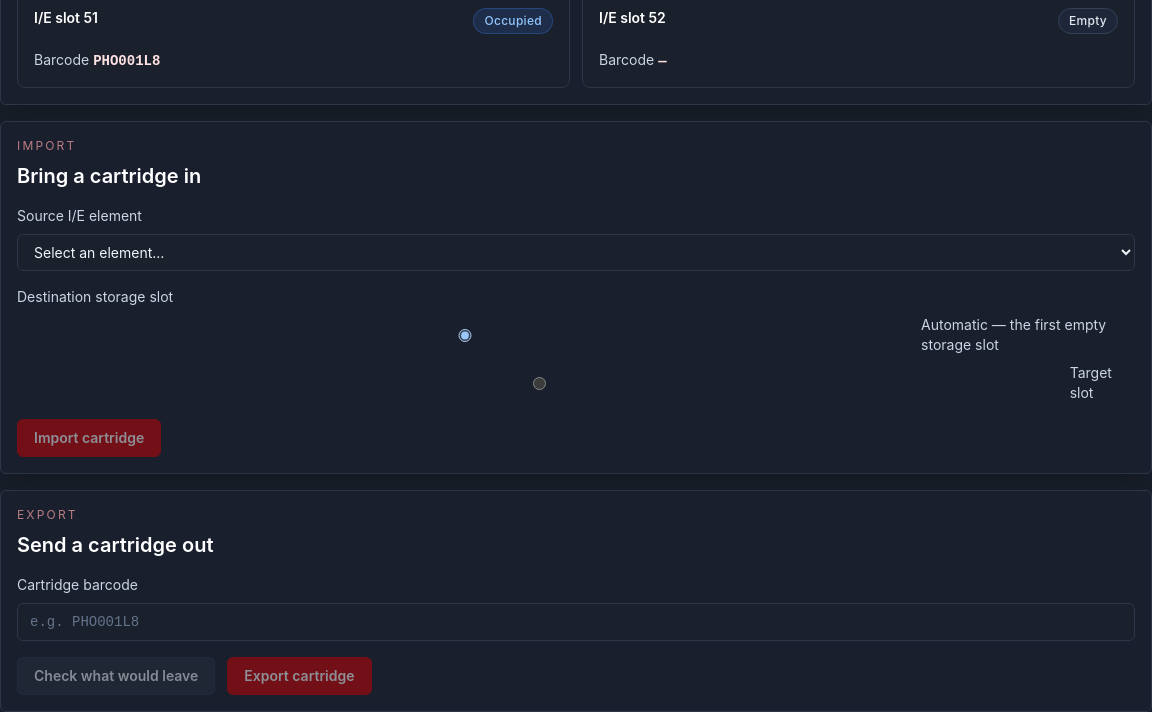
Test: Mailslot › previews what would leave with a cartridge before anything moves
(page scrolled)
In the field labelled "Cartridge barcode": (576, 622) [17,603,1135,641], type "ARC001L8"
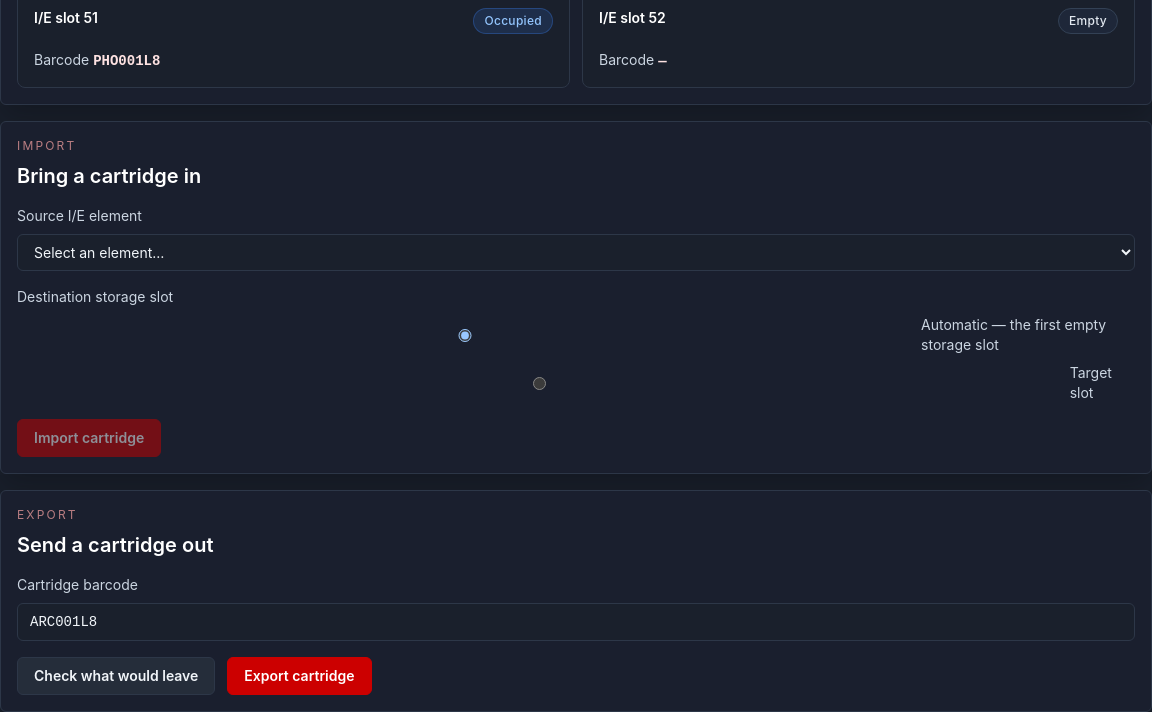
Click the button "Check what would leave": click(116, 676) [17,657,215,695]
(page scrolled)
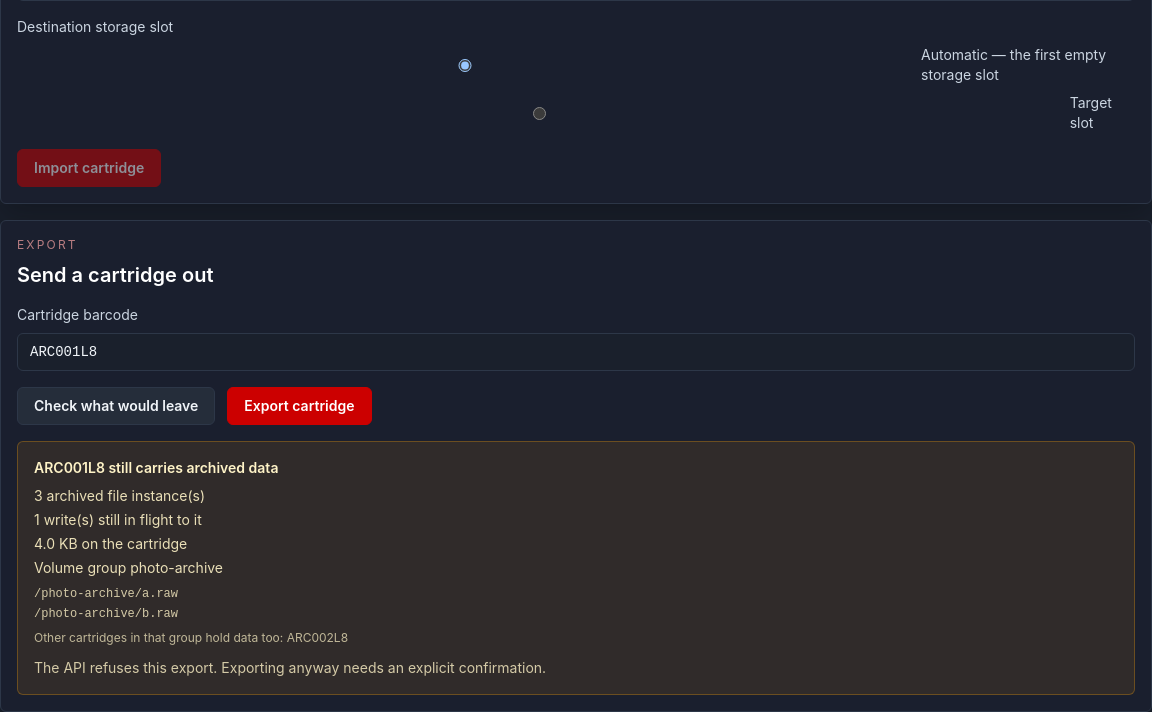
Check: the text "ARC001L8 still carries archived data" is shown, box [34,459,278,476]
Check: the list item "3 archived file instance(s)" is shown, box [34,487,205,504]
Check: the list item "1 write(s) still in flight to it" is shown, box [34,511,202,528]
